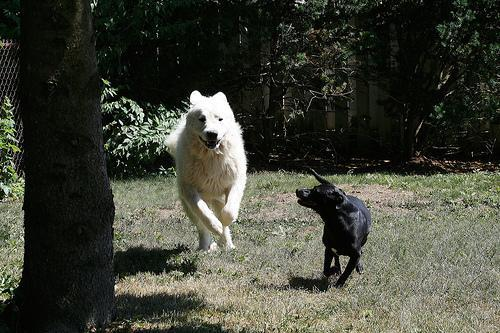Great_Pyrenees: (163, 89, 248, 257)
